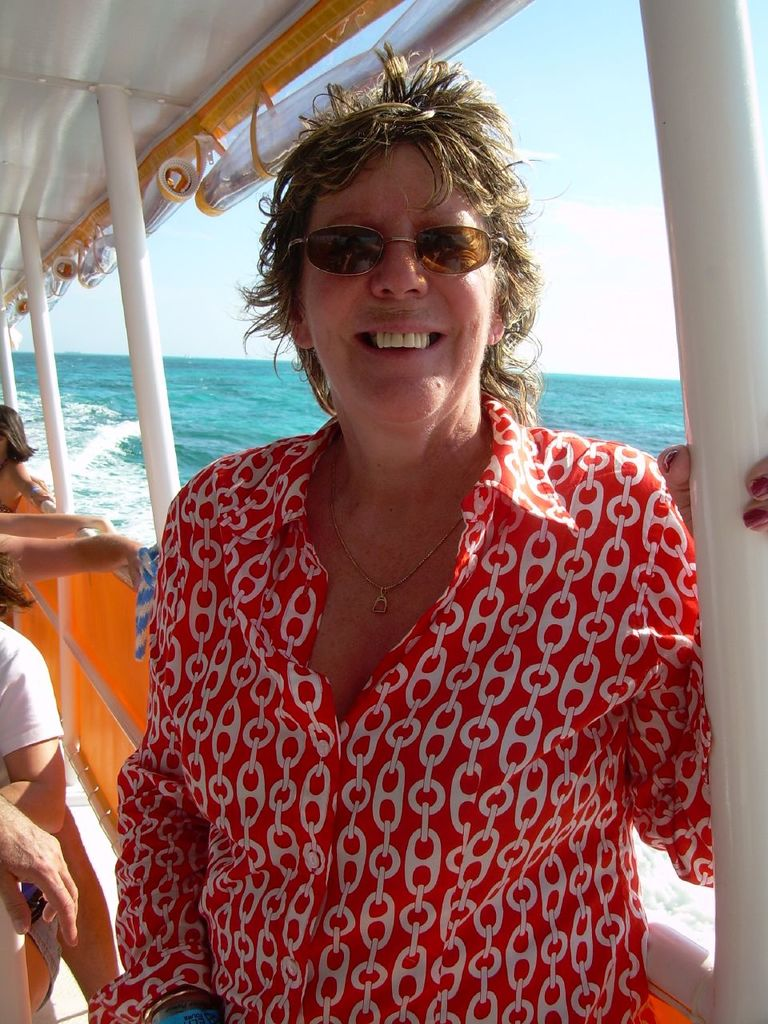Human-face: (290, 138, 496, 422)
